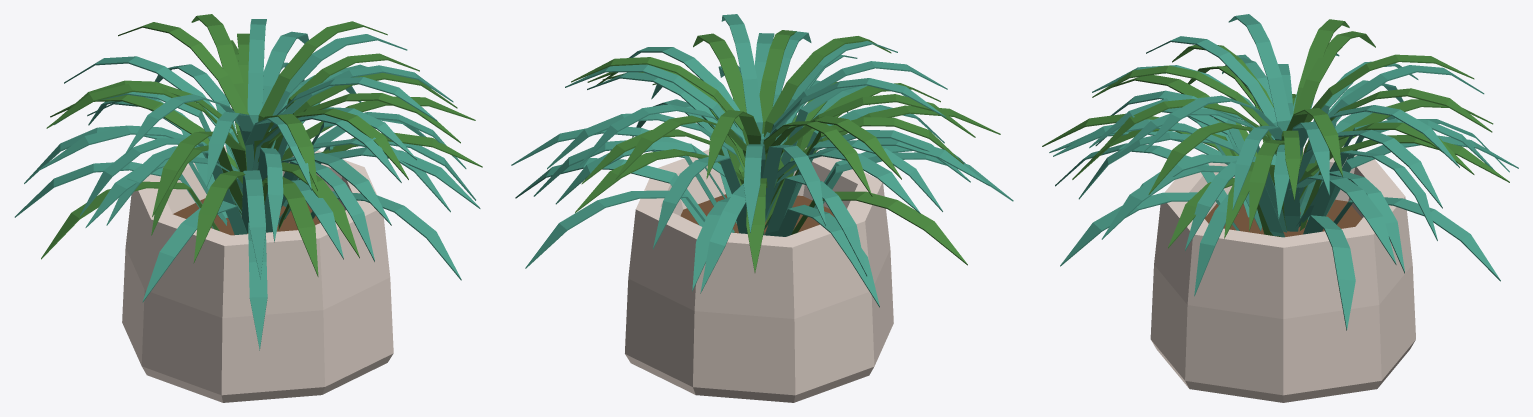
The model's file is Flower_6.fbx.
3 views of the same model, side by side, from view 1: azimuth 30°, elevation 25°; view 2: azimuth 150°, elevation 25°; view 3: azimuth 270°, elevation 25° (orthographic).
Visible parts, largest first — view 1: Flower_6; view 2: Flower_6; view 3: Flower_6.
Part boxes in pixels (x1=…): Flower_6: x1=14, y1=14, x2=482, y2=402; Flower_6: x1=511, y1=14, x2=1013, y2=402; Flower_6: x1=1042, y1=14, x2=1518, y2=402.
Bounding box in the file's own units: 43.6 × 42.52 × 27.47.
